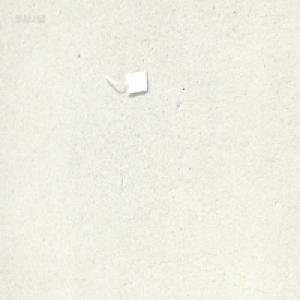LuggageTag: (102, 66, 150, 97)
